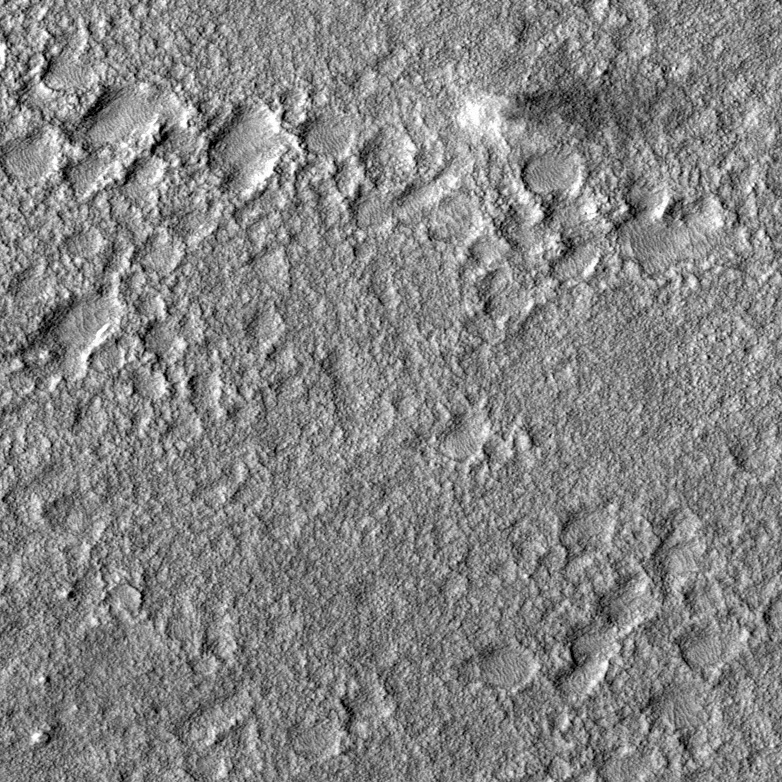dust_devil: (452, 68, 695, 150)
